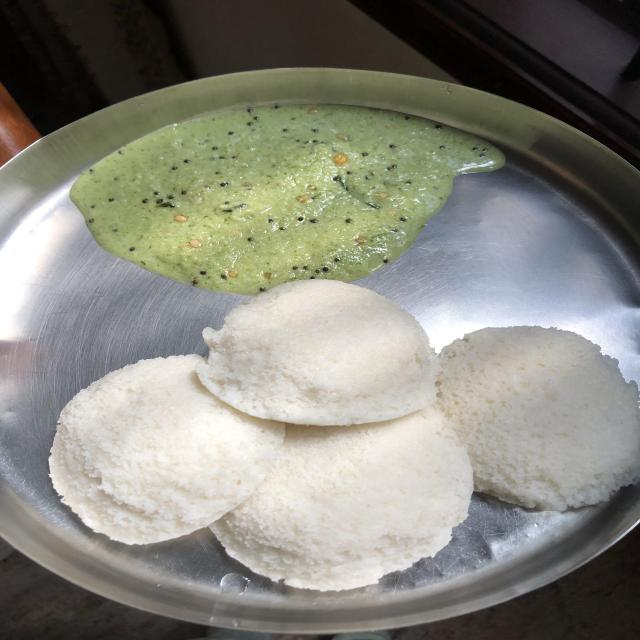idli: (212, 401, 462, 592), (47, 353, 288, 550), (412, 325, 636, 499), (209, 284, 434, 432)
